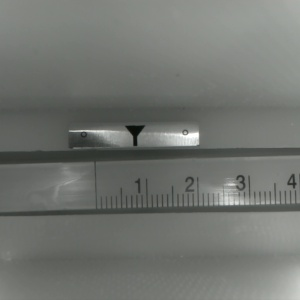1: (134, 177, 140, 193)
2: (184, 176, 194, 192)
3: (234, 176, 245, 191)
4: (286, 173, 296, 189)
finger: (124, 125, 145, 146)
